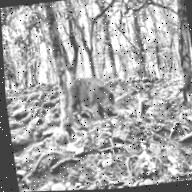boar: (46, 49, 123, 138)
